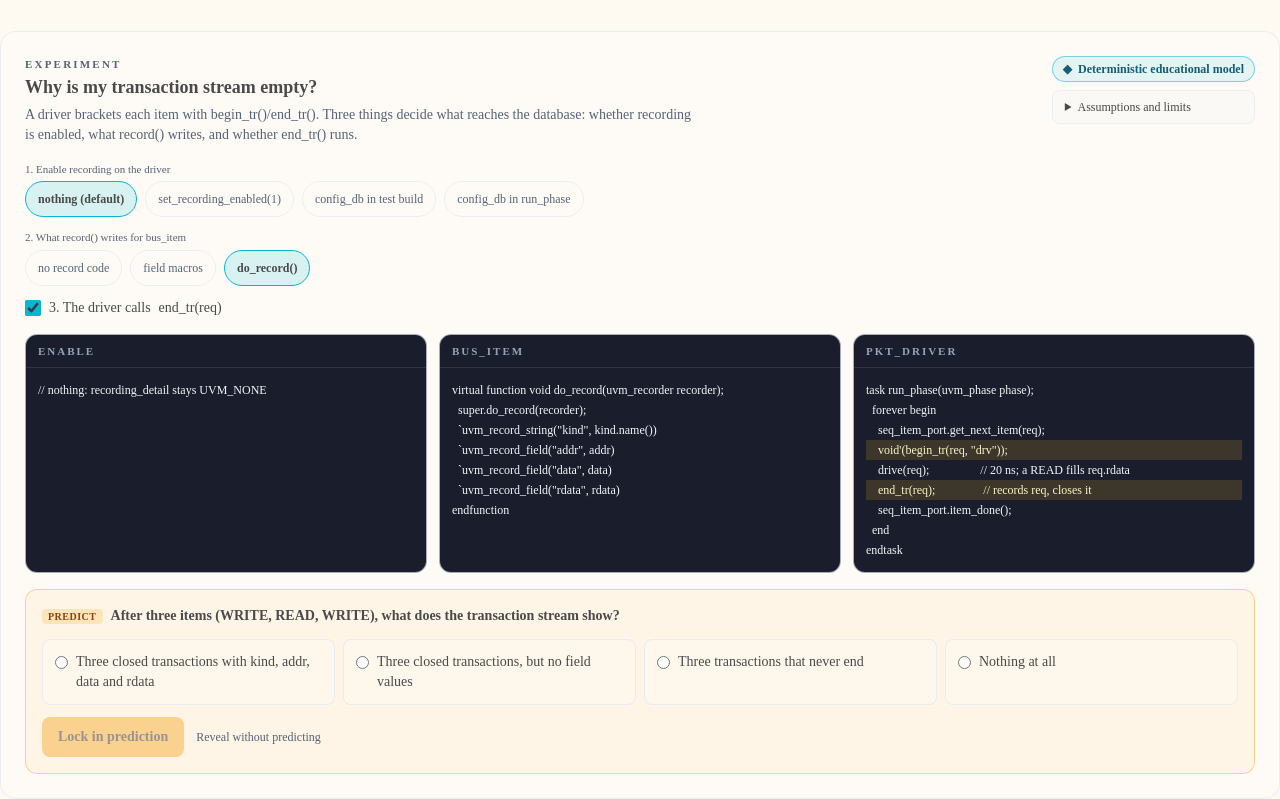
TransactionRecordingVisualizer › set_recording_enabled(1) with do_record records rdata at end_tr
This screenshot has width=1280, height=799.
Click the radio button labelled "set_recording_enabled(1)": click(220, 199) x1=145 y1=181 x2=294 y2=217
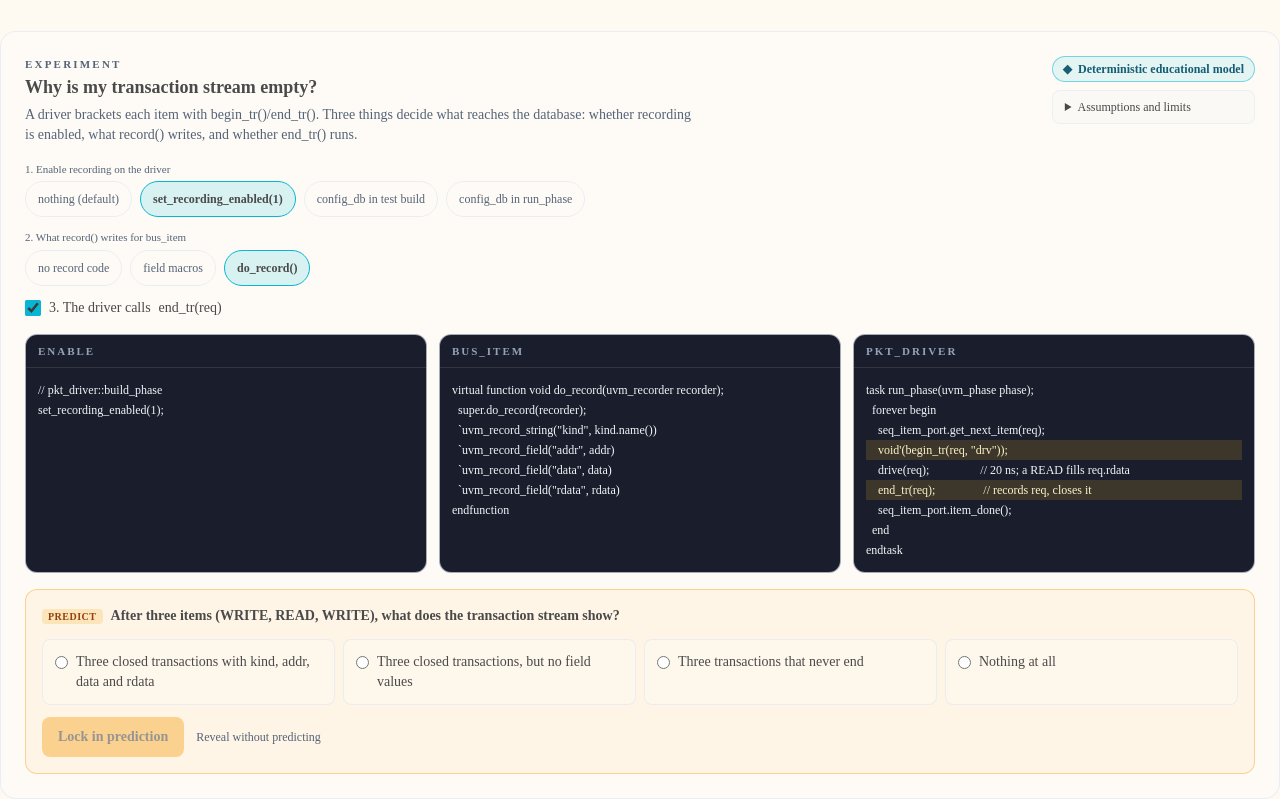
Click the radio button labelled "Three closed transactions with kind, addr, data and rdata": click(62, 662) x1=55 y1=656 x2=68 y2=669
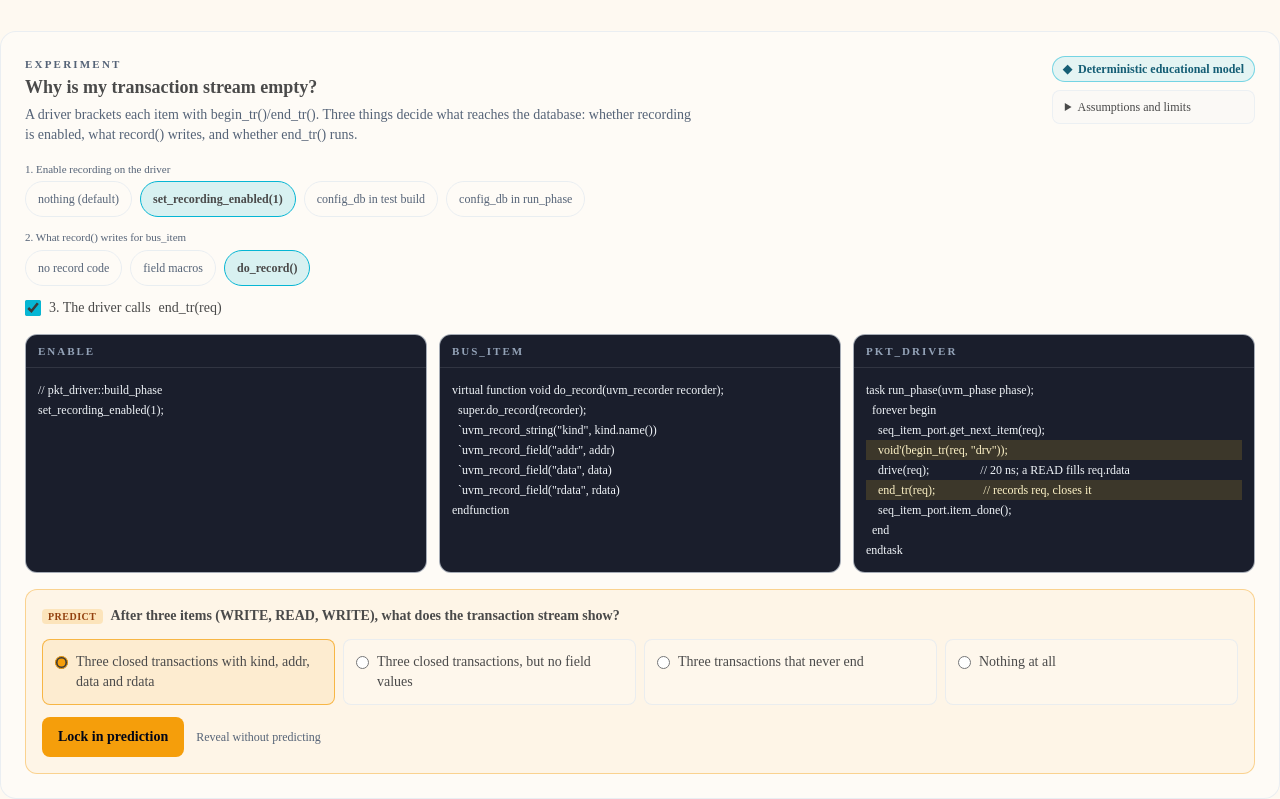
Click the button "Lock in prediction": click(113, 737) x1=42 y1=717 x2=184 y2=757
(page scrolled)
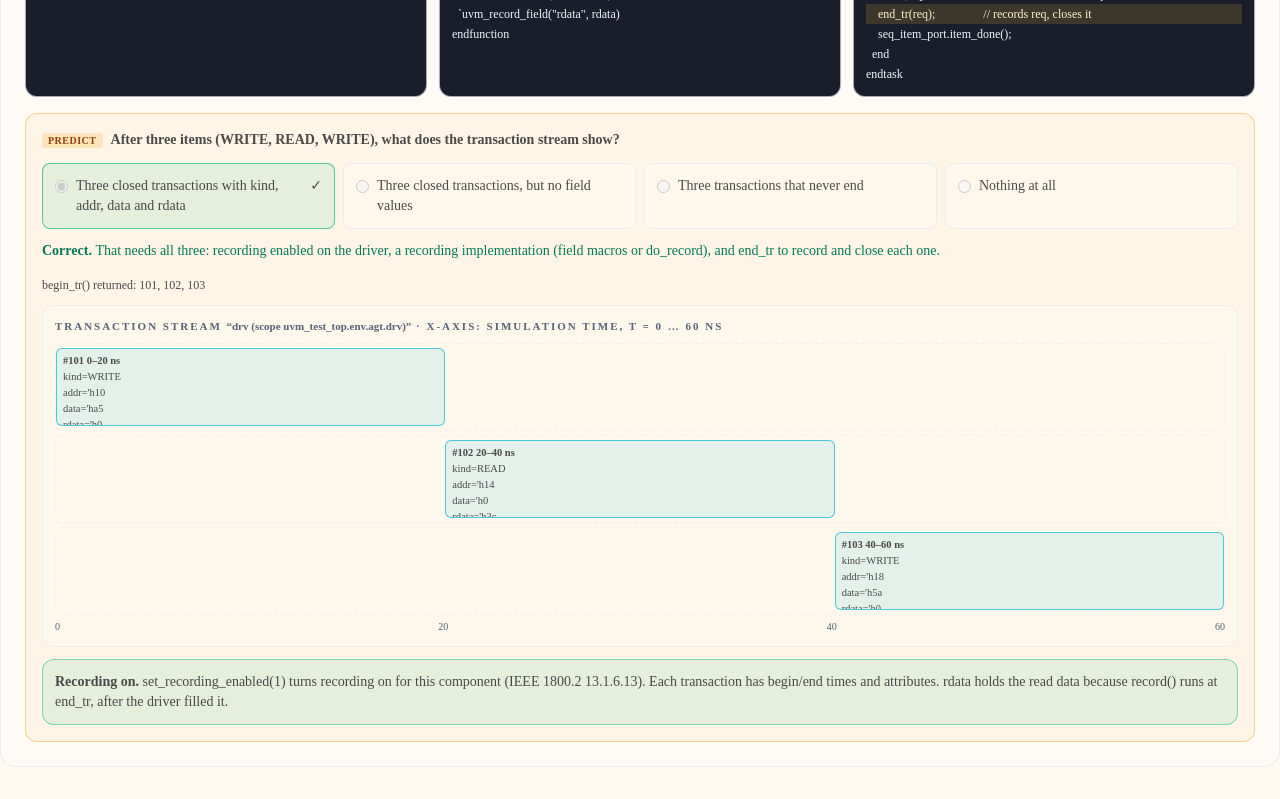
Expected: the text "Correct." is shown, x1=42 y1=243 x2=95 y2=258
Expected: the text "rdata='h3c" is shown, x1=452 y1=510 x2=496 y2=518
Expected: the text "#102 20–40 ns" is shown, x1=452 y1=446 x2=515 y2=458
